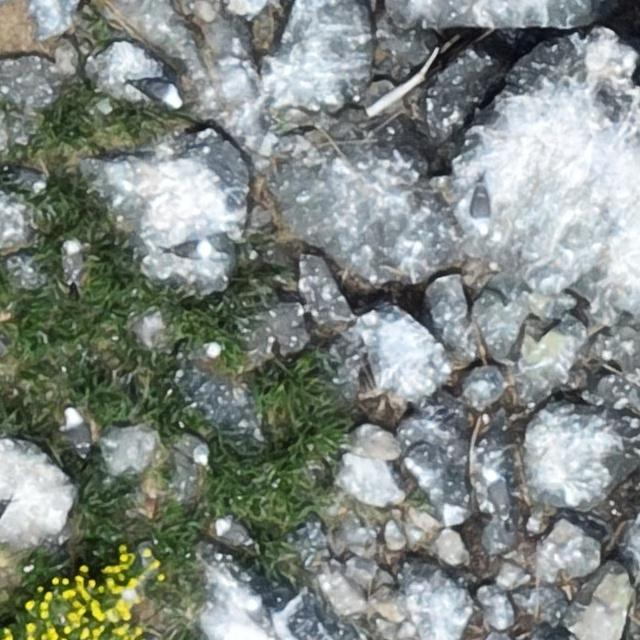umineko: (481, 470, 511, 516), (175, 431, 213, 467), (468, 181, 491, 235), (65, 408, 89, 459), (244, 598, 271, 632), (141, 80, 181, 102), (216, 519, 249, 542), (10, 169, 45, 189), (64, 243, 82, 279), (171, 241, 209, 258)
